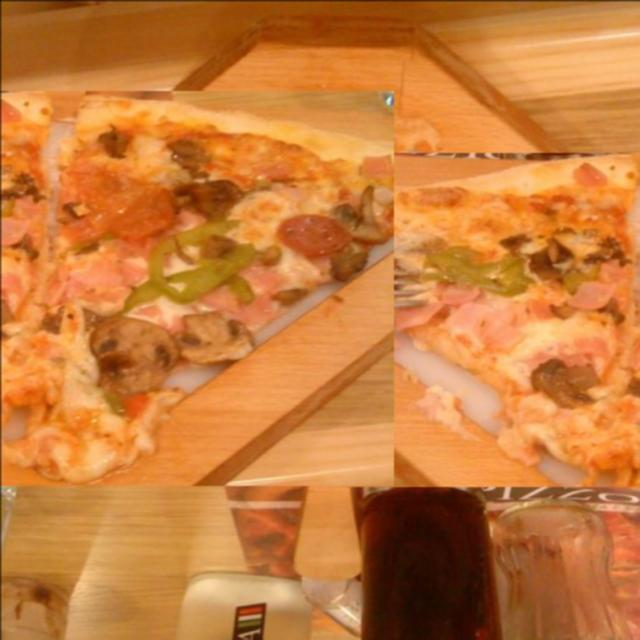pizza: (0, 88, 393, 484), (339, 152, 640, 486)
